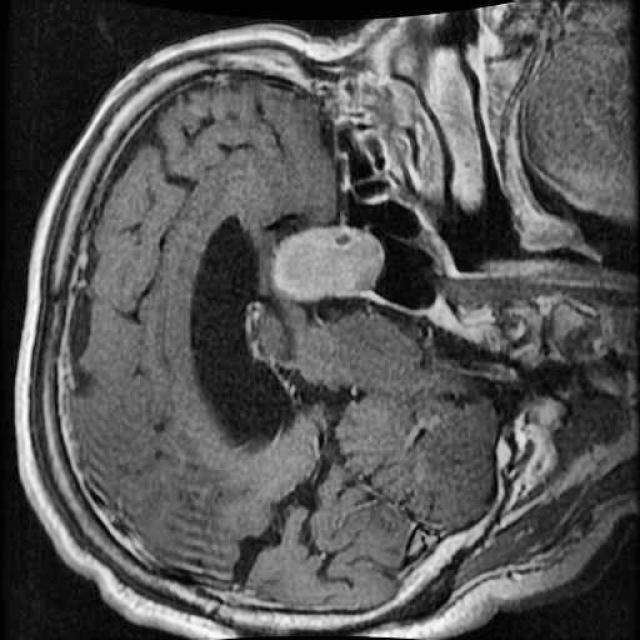Tumor: (266, 214, 395, 310)
